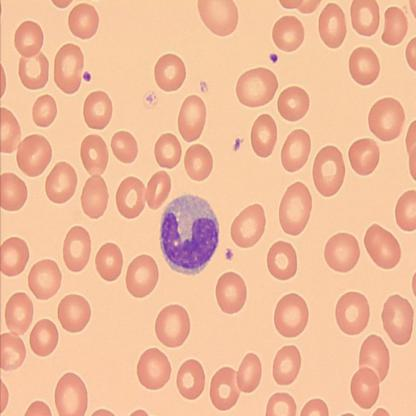Monocyte: (158, 191, 222, 277)
